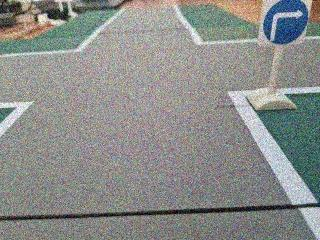right: (258, 0, 312, 48)
